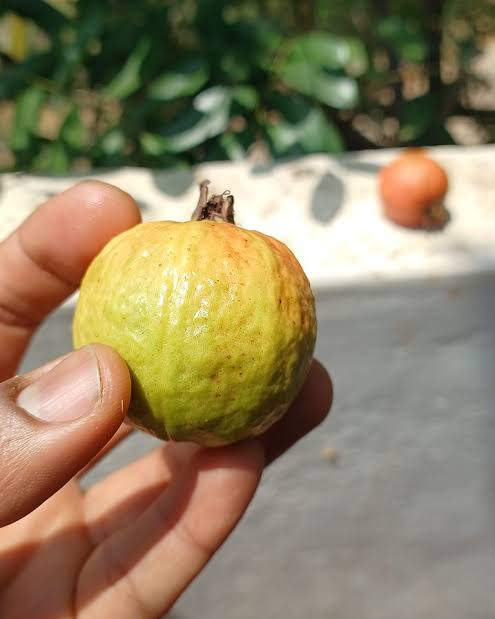guava: (72, 132, 417, 579)
